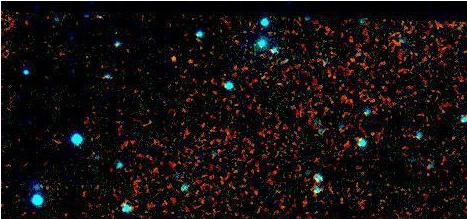star: (155, 41, 185, 71)
